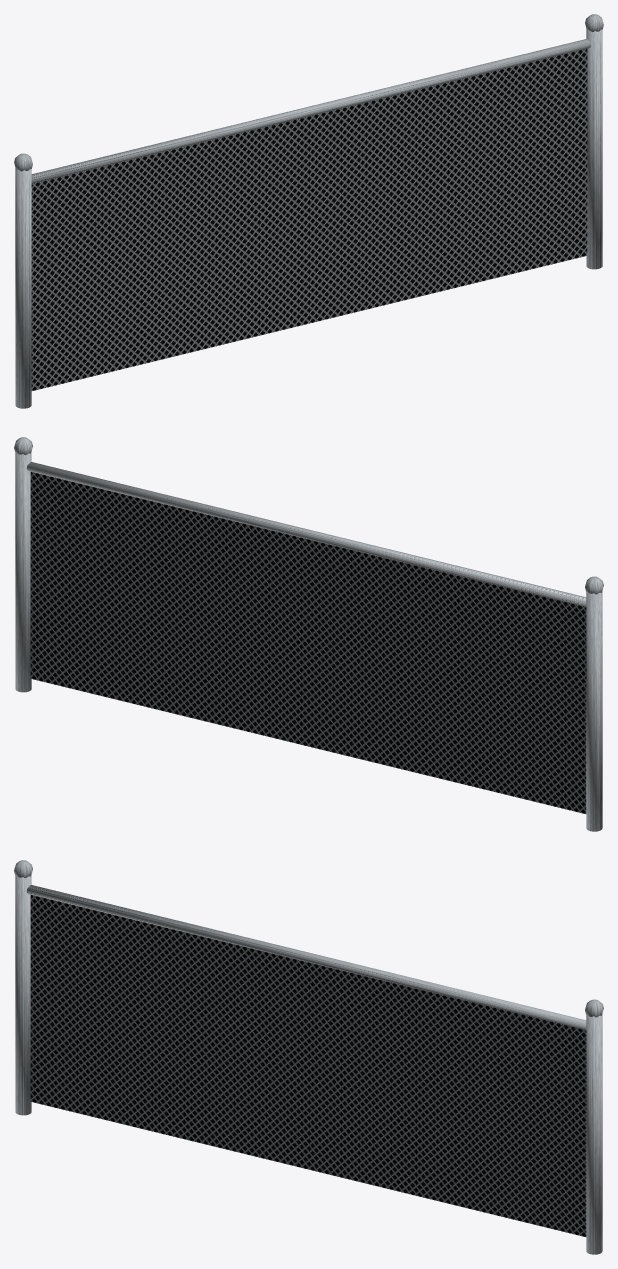
File: WK_WALL_Chainlink4m.glb
3 renders of one model, top to bottom at view 1: azimuth 30°, elevation 25°; view 2: azimuth 150°, elevation 25°; view 3: azimuth 330°, elevation 25°, orthographic.
Parts seen in each view (by area): view 1: WK_WALL_Chainlink4m_P06, WK_WALL_Chainlink4m_P05, WK_WALL_Chainlink4m_P01, WK_WALL_Chainlink4m_P03; view 2: WK_WALL_Chainlink4m_P06, WK_WALL_Chainlink4m_P05, WK_WALL_Chainlink4m_P01, WK_WALL_Chainlink4m_P03; view 3: WK_WALL_Chainlink4m_P06, WK_WALL_Chainlink4m_P05, WK_WALL_Chainlink4m_P03, WK_WALL_Chainlink4m_P01.
Part boxes in pixels (box(x1,y1,x2,y2)): WK_WALL_Chainlink4m_P06: box(31, 49, 587, 390); WK_WALL_Chainlink4m_P05: box(31, 39, 591, 183); WK_WALL_Chainlink4m_P01: box(15, 168, 31, 408); WK_WALL_Chainlink4m_P03: box(586, 29, 602, 269); WK_WALL_Chainlink4m_P06: box(30, 472, 586, 813); WK_WALL_Chainlink4m_P05: box(26, 462, 586, 606); WK_WALL_Chainlink4m_P01: box(586, 591, 602, 831); WK_WALL_Chainlink4m_P03: box(15, 452, 31, 692); WK_WALL_Chainlink4m_P06: box(30, 895, 586, 1236); WK_WALL_Chainlink4m_P05: box(26, 885, 586, 1029); WK_WALL_Chainlink4m_P03: box(586, 1014, 602, 1254); WK_WALL_Chainlink4m_P01: box(15, 875, 31, 1115).
Size of the model in its own units: 4.12 by 1.68 by 0.12.
2 materials, 2 textured.
